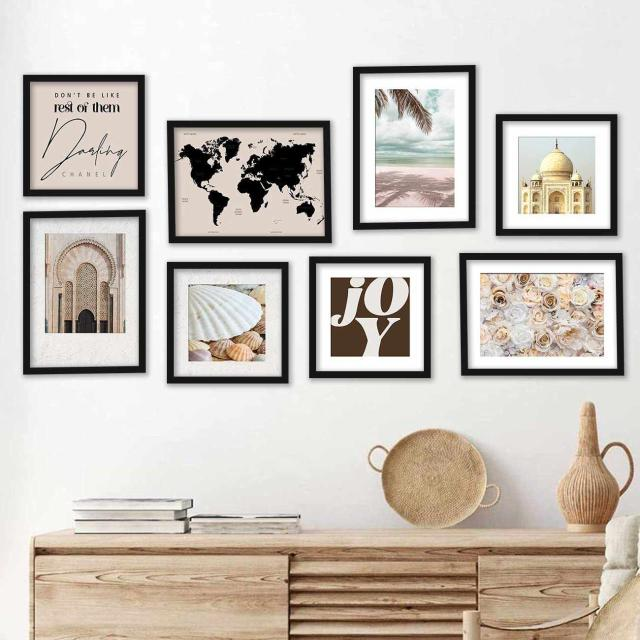painting: (459, 252, 625, 375), (24, 209, 147, 374), (353, 65, 476, 230), (167, 120, 332, 243), (23, 74, 144, 194), (310, 258, 431, 378), (168, 262, 289, 382), (495, 114, 616, 234)
